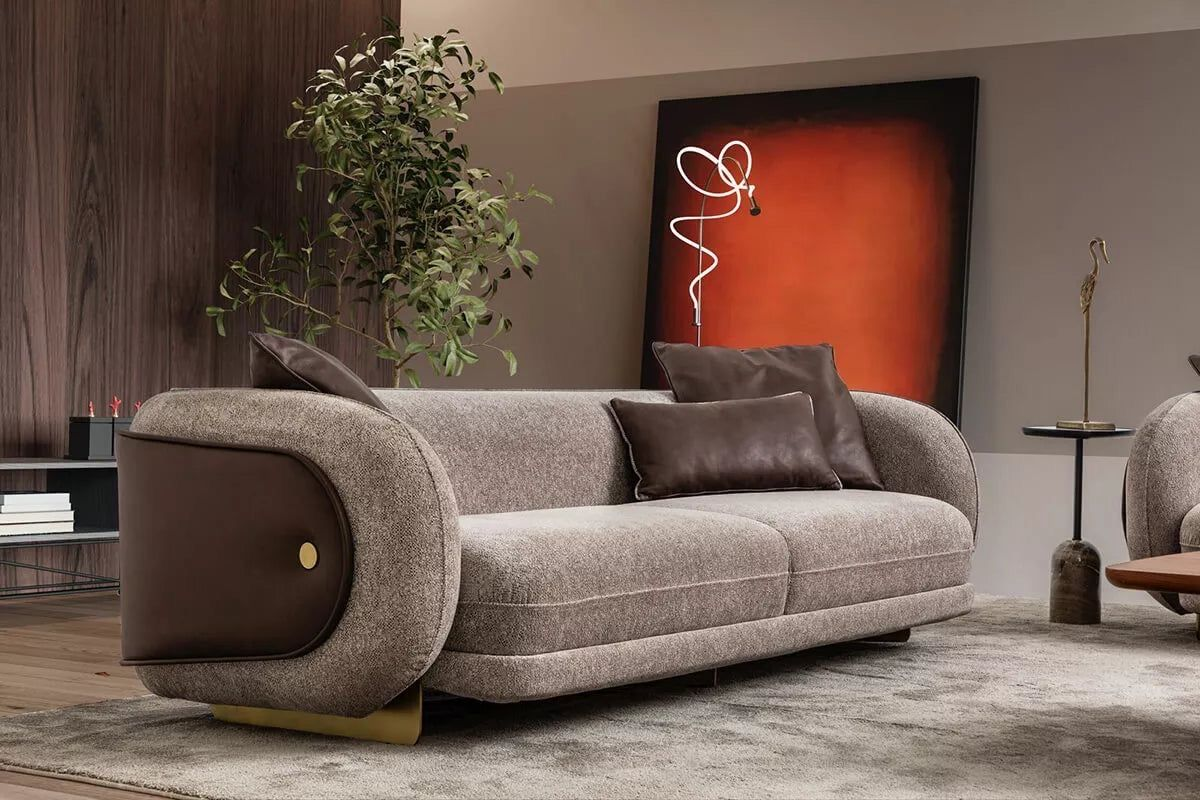3seatersofa: (119, 334, 976, 742)
backrest: (378, 391, 669, 513)
base: (425, 584, 972, 702)
leftarmrest: (852, 392, 977, 541)
leg: (214, 682, 422, 744), (872, 629, 907, 640)
pillow: (611, 342, 883, 498), (251, 334, 383, 407)
rightarmrest: (121, 390, 459, 716)
seat: (439, 491, 972, 666)
